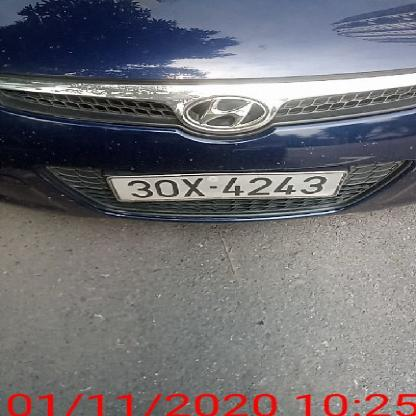biensoxe: (107, 169, 343, 204)
